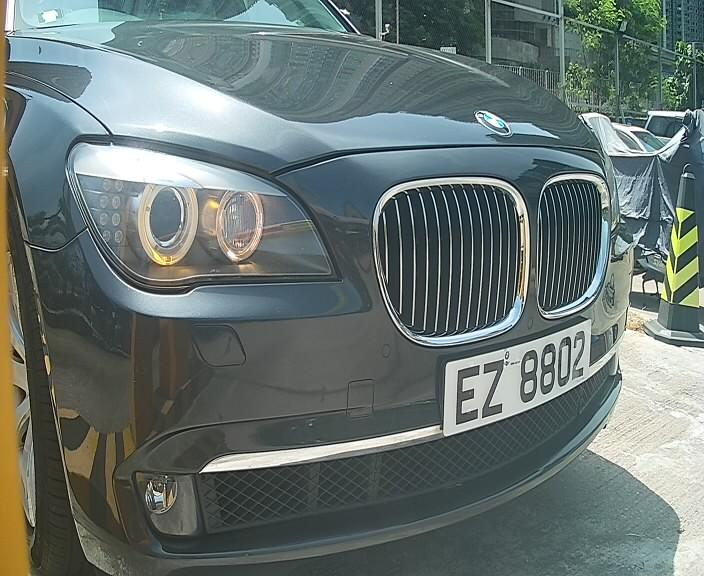License Plate: (417, 299, 612, 461)
